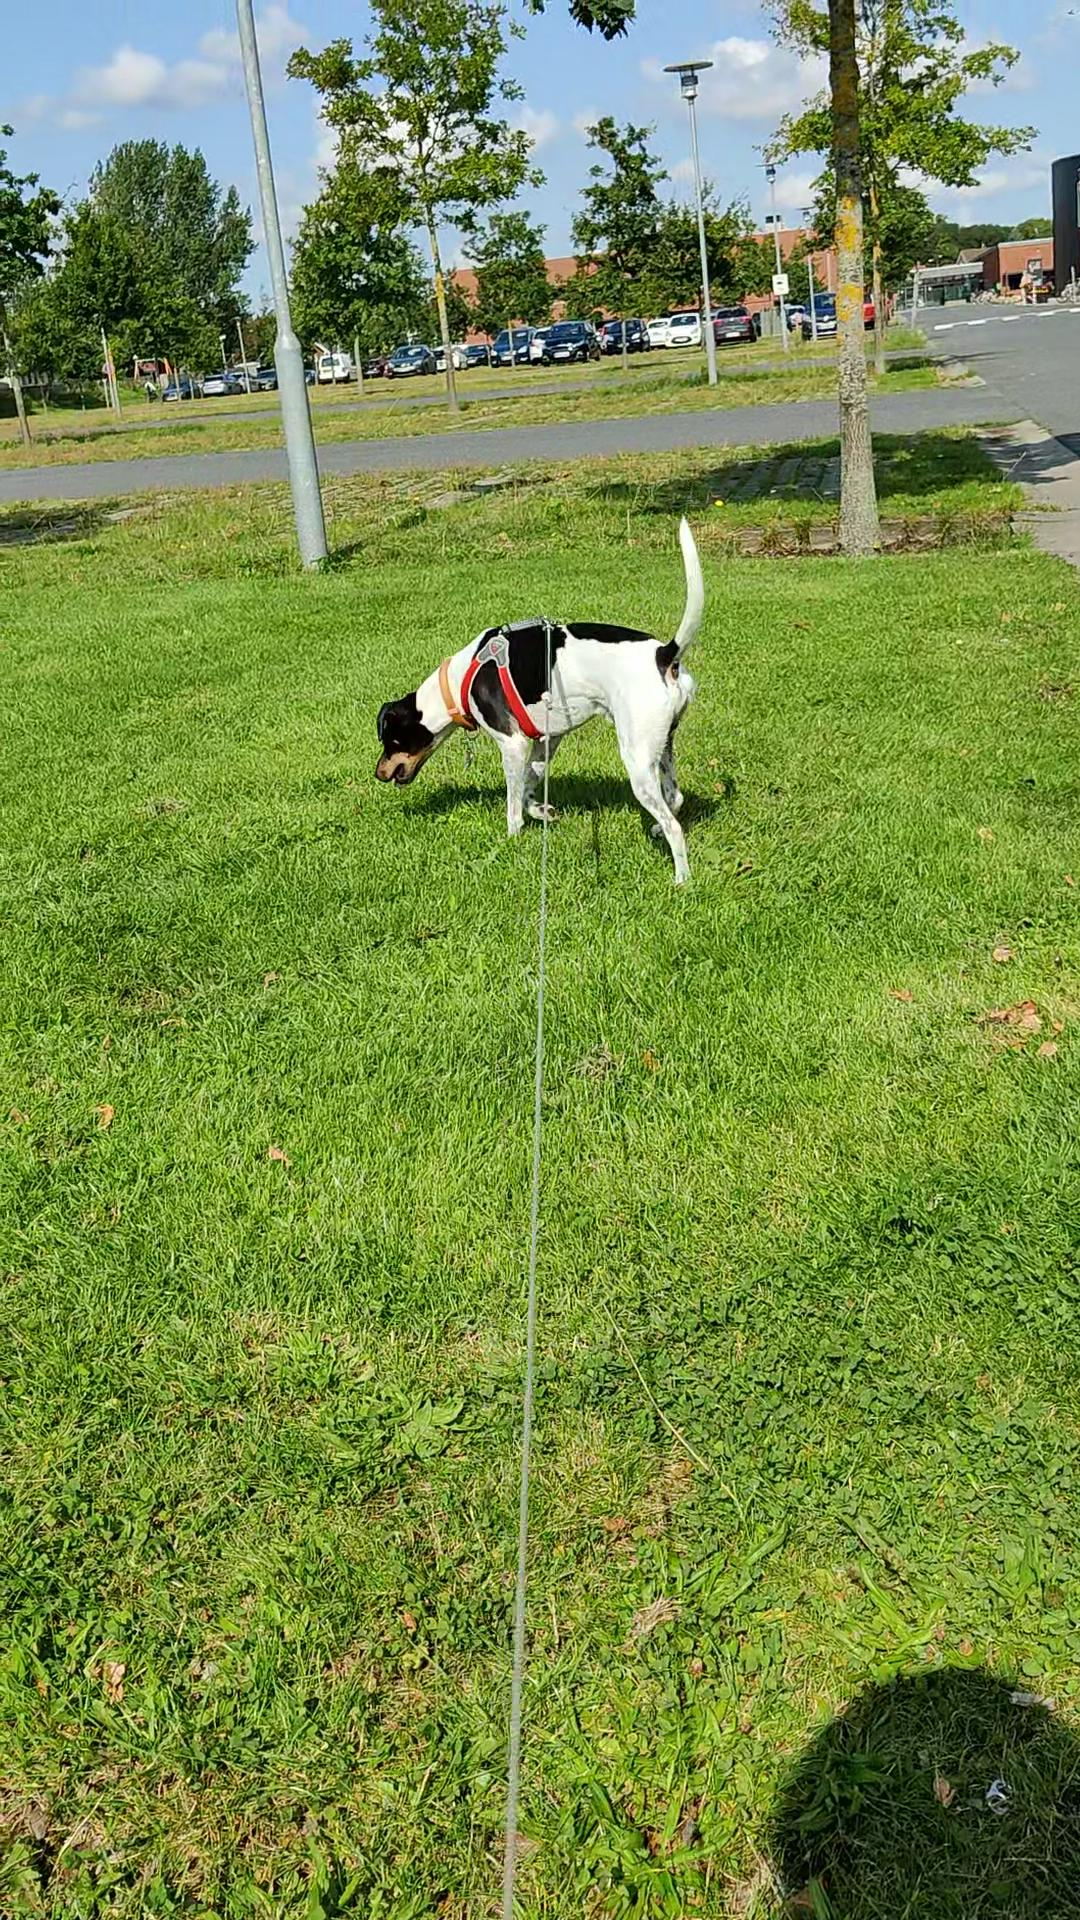Dog: (368, 509, 711, 889)
